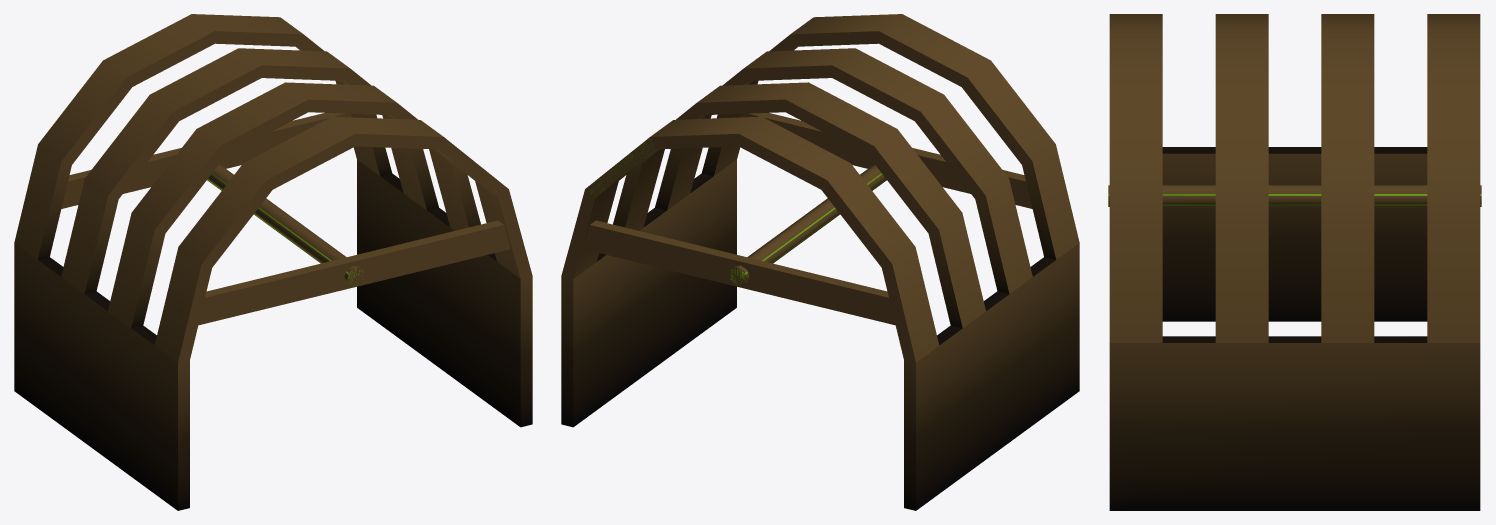
Rendered from props_set.fbx.
3 renders of one model, left to right at view 1: azimuth 30°, elevation 25°; view 2: azimuth 150°, elevation 25°; view 3: azimuth 270°, elevation 25°, orthographic. The views are drawn at different scales.
Visible parts, largest first — view 1: props_barn; view 2: props_barn; view 3: props_barn, props_barnCOL.
Part boxes in pixels (left/top/right/bottom): props_barn: left=14, top=14, right=532, bottom=510; props_barn: left=561, top=14, right=1079, bottom=510; props_barn: left=1108, top=14, right=1481, bottom=510; props_barnCOL: left=1108, top=194, right=1481, bottom=205.
Size of the model in its own units: 10.01 by 9 by 8.06.
